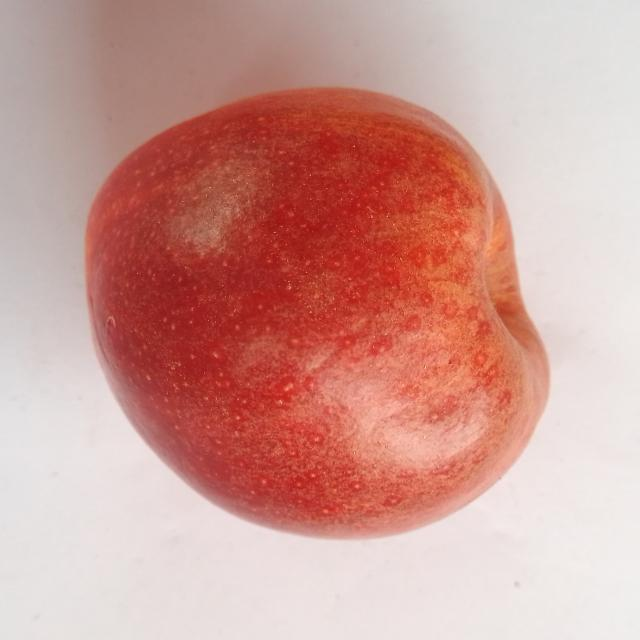Fresh Apple: (80, 78, 555, 550)
